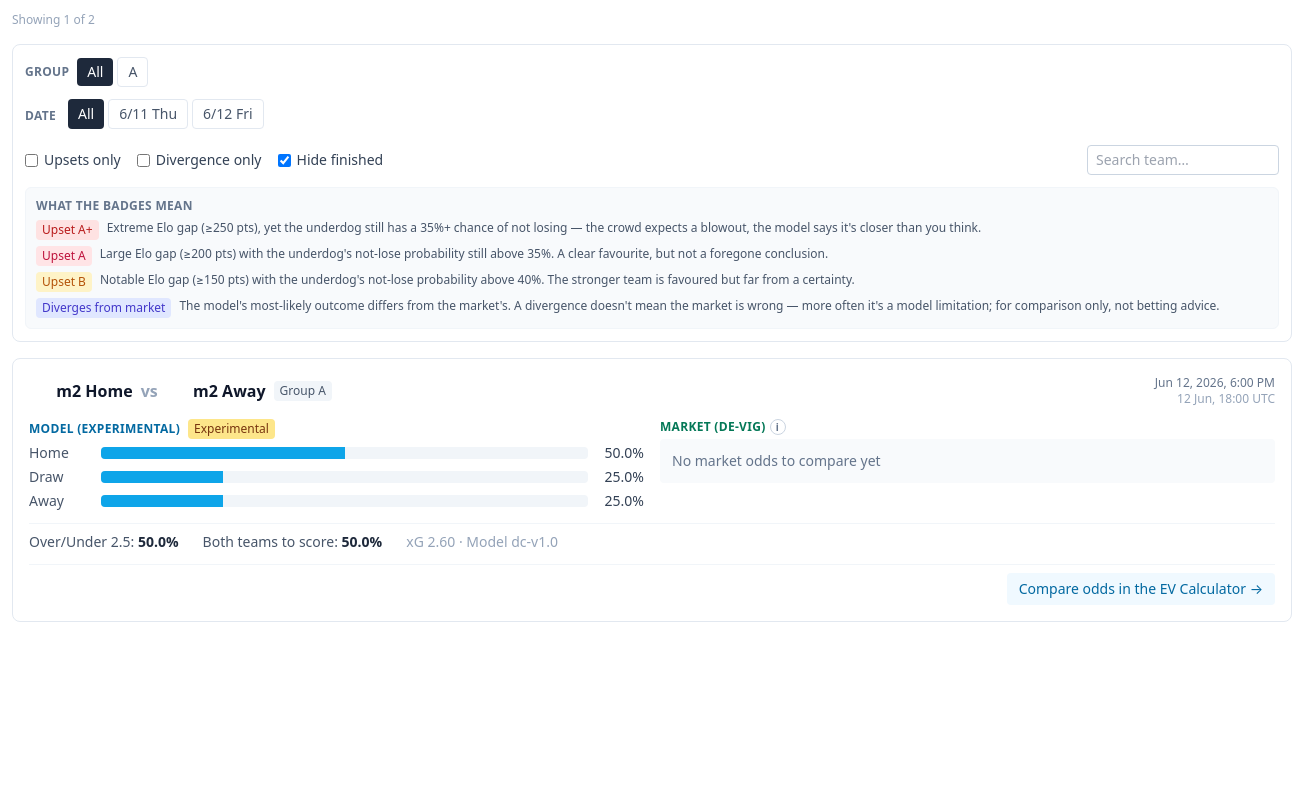
Test: MatchFilters (client-side filter, Issue 7) › hides finished matches by default, and reveals them when unchecked
Expected: the text "Showing 1 of 2" is shown, [12, 12, 95, 28]
What coordinates should you click on to do the following:
click the checkbox labelled "Hide finished"
I would click on:
 (284, 160)
Its box is [278, 154, 290, 166].
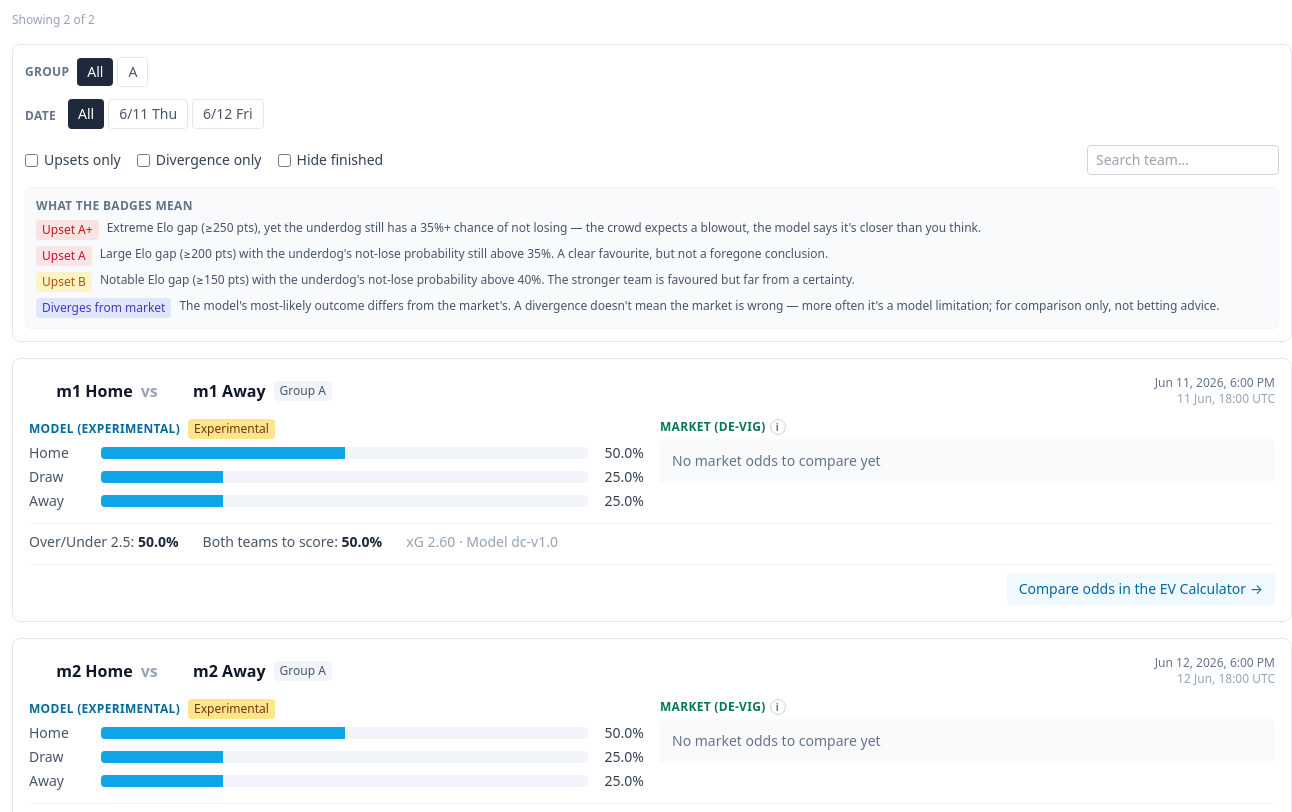
Result: the text "Showing 2 of 2" is shown at [12, 12, 95, 28]
